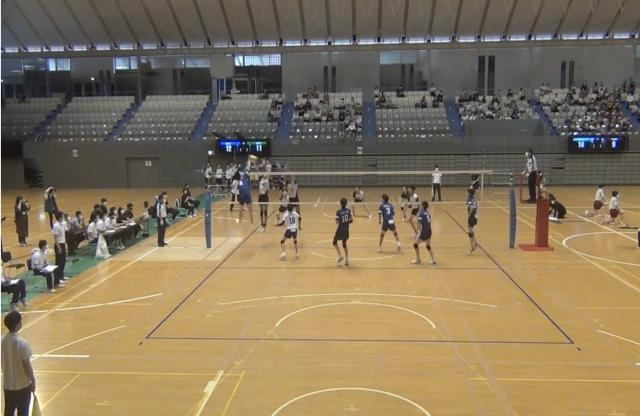spike: (232, 152, 261, 230)
